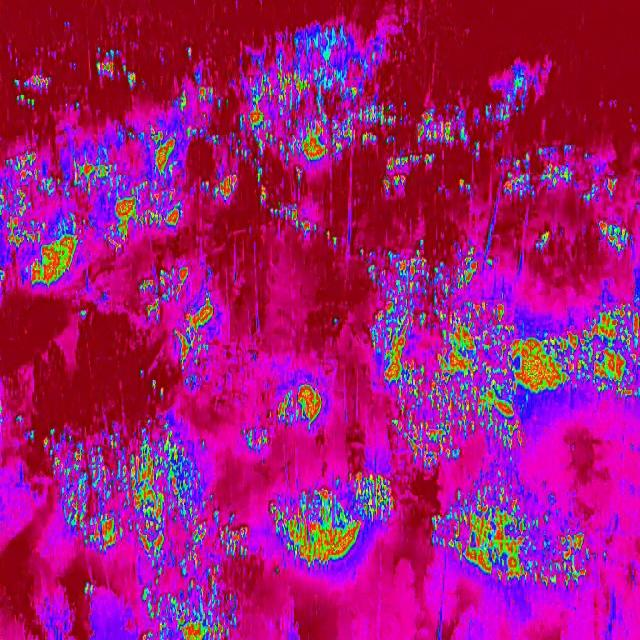fire: (365, 239, 524, 469), (43, 415, 213, 575), (238, 25, 408, 166), (429, 468, 588, 594), (524, 298, 640, 427), (80, 119, 190, 250), (269, 468, 396, 573), (0, 140, 80, 286), (138, 260, 216, 370), (138, 575, 238, 640), (537, 140, 619, 202), (481, 64, 548, 124), (414, 104, 482, 154), (272, 204, 338, 246), (277, 380, 320, 434), (493, 148, 534, 202), (215, 508, 249, 560), (192, 67, 234, 109), (94, 46, 138, 86), (595, 218, 632, 256), (14, 72, 50, 111), (200, 167, 238, 202), (190, 122, 238, 148), (240, 427, 270, 453), (382, 166, 408, 194), (254, 166, 270, 208), (173, 88, 192, 111), (292, 164, 305, 190), (456, 177, 471, 199), (407, 154, 434, 166), (536, 231, 550, 254), (149, 379, 165, 397), (184, 374, 202, 390), (82, 580, 95, 598), (25, 427, 37, 445), (185, 42, 196, 58), (0, 402, 6, 428), (15, 410, 24, 426), (72, 100, 82, 112), (600, 551, 609, 563), (331, 315, 338, 329), (80, 309, 86, 320), (358, 245, 363, 256), (138, 368, 144, 377)
